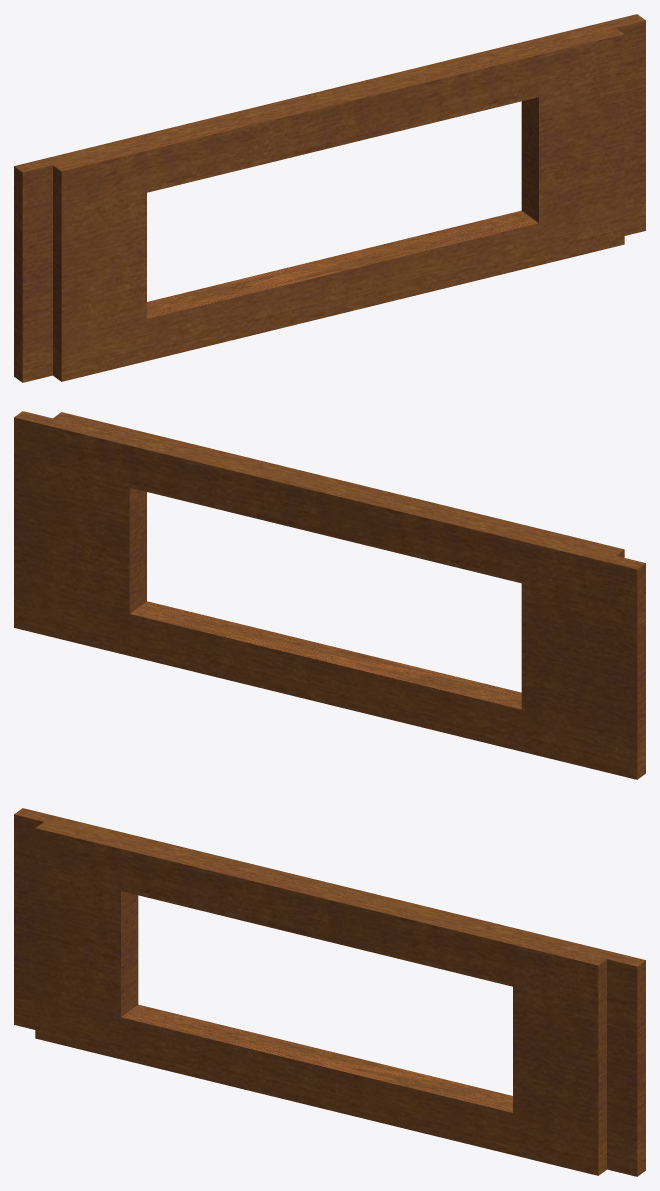
File: original-51.obj
3 views of the same model, one above another, from view 1: azimuth 30°, elevation 25°; view 2: azimuth 150°, elevation 25°; view 3: azimuth 330°, elevation 25° (orthographic).
Visible parts, largest first — view 1: front_apron1/front_apron/mesh94/mesh94-geometry#mesh94-geometry; view 2: front_apron1/front_apron/mesh94/mesh94-geometry#mesh94-geometry; view 3: front_apron1/front_apron/mesh94/mesh94-geometry#mesh94-geometry.
Boxes of the visible parts, x1=… form: front_apron1/front_apron/mesh94/mesh94-geometry#mesh94-geometry: x1=14, y1=14, x2=645, y2=382; front_apron1/front_apron/mesh94/mesh94-geometry#mesh94-geometry: x1=14, y1=411, x2=645, y2=779; front_apron1/front_apron/mesh94/mesh94-geometry#mesh94-geometry: x1=14, y1=808, x2=645, y2=1176.
Bounding box in the file's own units: 0.591 × 0.1906 × 0.0286.
2 materials, 2 textured.
